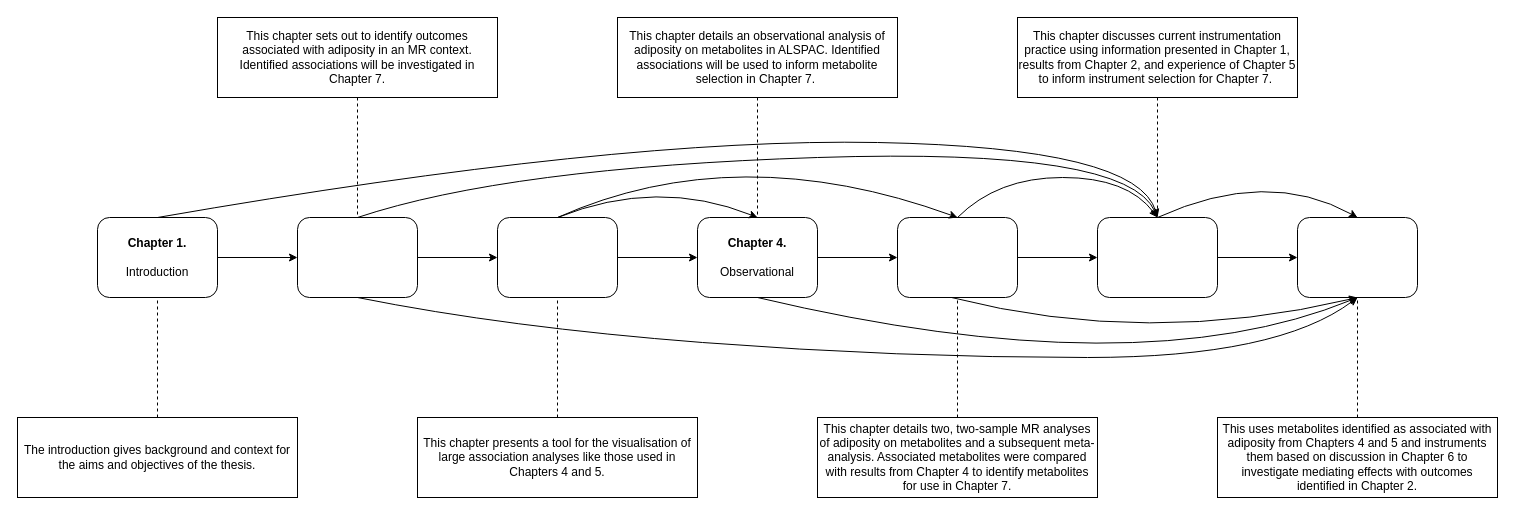
Some shapes in this 1515 by 515 pixel diagram are drawn without their labels. The shapes that lost their labels are listed below. From the top down, each one's box as (x1, y1, x2, y2) in pixels, then its label:
(296, 216, 418, 298): Chapter 2. Systematic review
(496, 216, 618, 298): Chapter 3. Visualisation
(896, 216, 1018, 298): Chapter 5. MR
(1096, 216, 1218, 298): Chapter 6. Instrumentation
(1296, 216, 1418, 298): Chapter 7. MR Mediation
